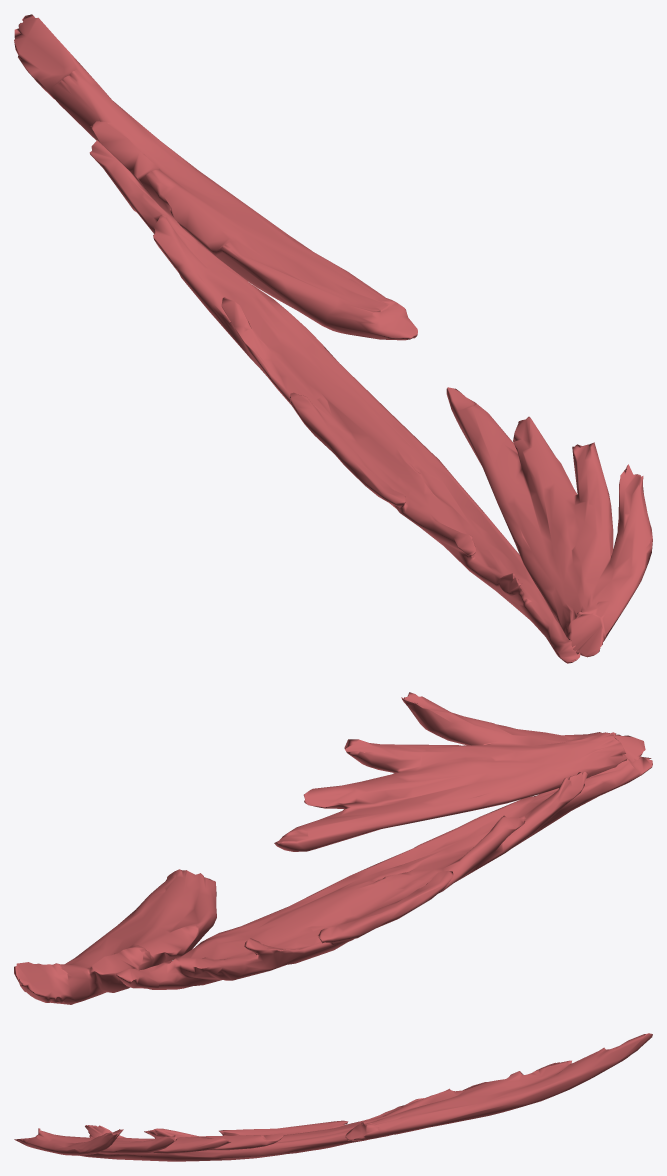
The picture shows the model from 3 angles, top to bottom: view 1: azimuth 30°, elevation 25°; view 2: azimuth 150°, elevation 25°; view 3: azimuth 270°, elevation 25°; orthographic projection. The views are drawn at different scales.
Parts seen in each view (by area): view 1: 左侧颈长肌; view 2: 左侧颈长肌; view 3: 左侧颈长肌.
Boxes of the visible parts, x1,y1,x2,y2 form: 左侧颈长肌: (14, 14, 652, 663); 左侧颈长肌: (14, 692, 652, 1004); 左侧颈长肌: (14, 1033, 652, 1161).
Bounding box in the file's own units: 0.0365 × 0.0503 × 0.2319.
